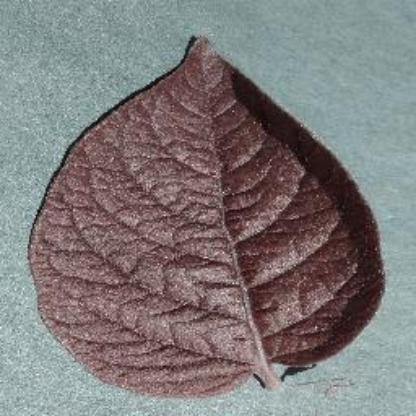Healthy-plant: (25, 34, 386, 404)
